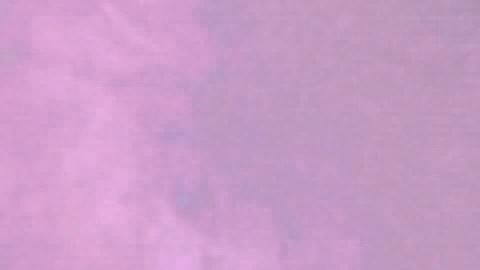tomato: (147, 115, 338, 268), (1, 119, 147, 268), (338, 129, 477, 268)
